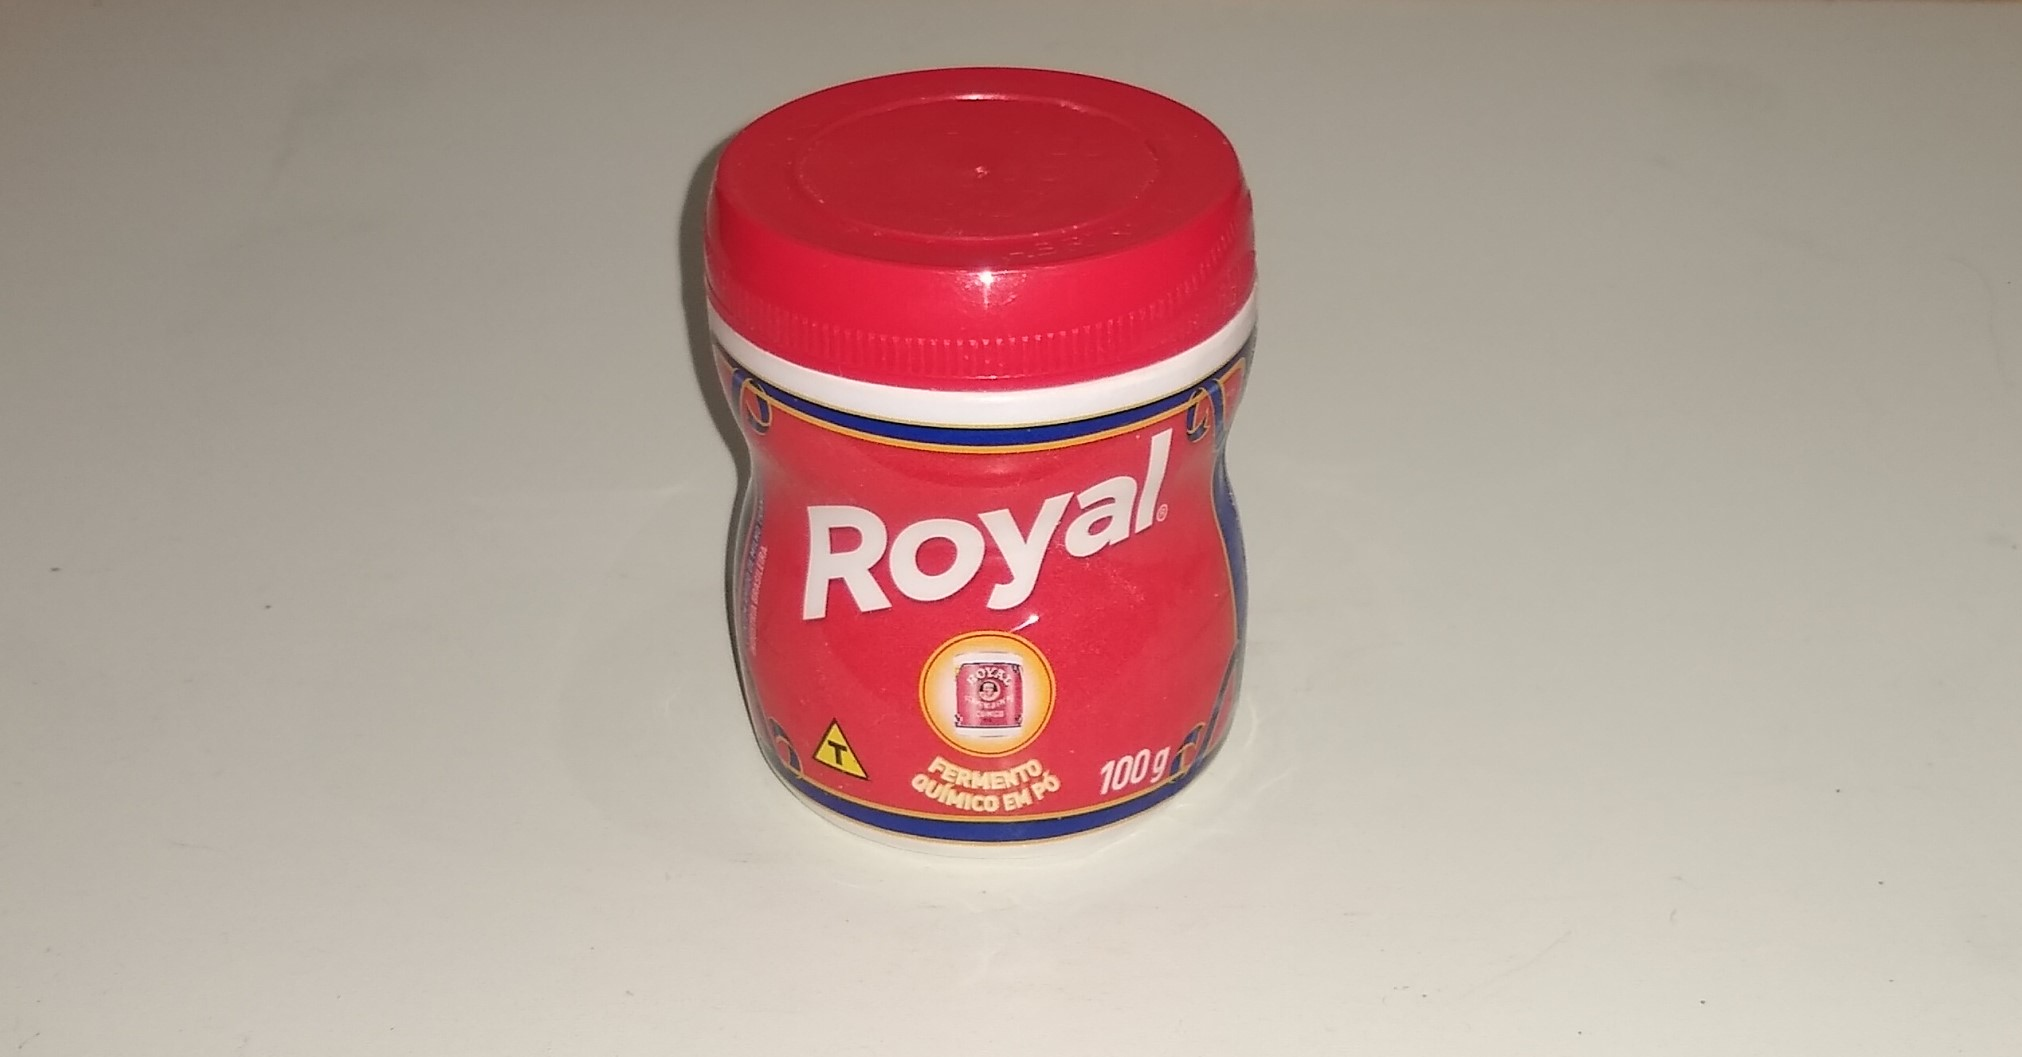Yeast: (694, 64, 1281, 855)
